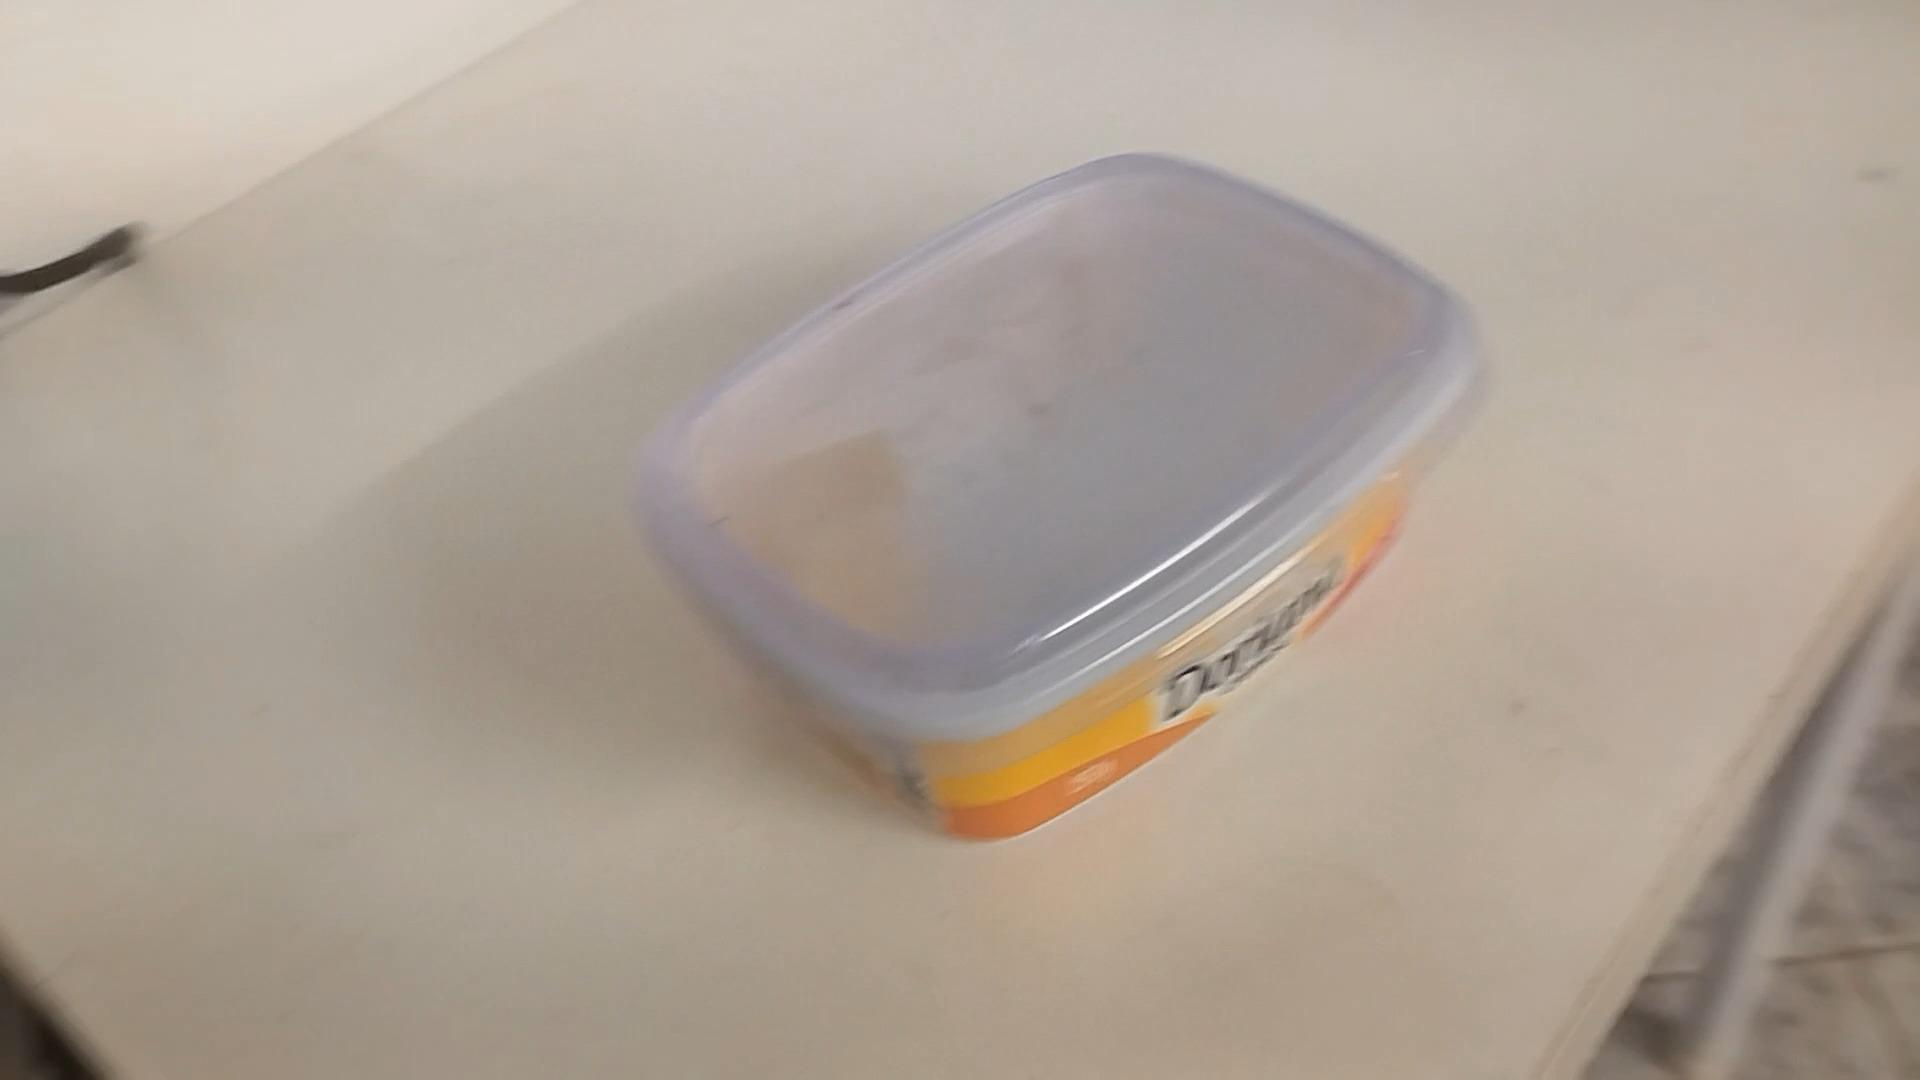butter: (625, 153, 1489, 851)
